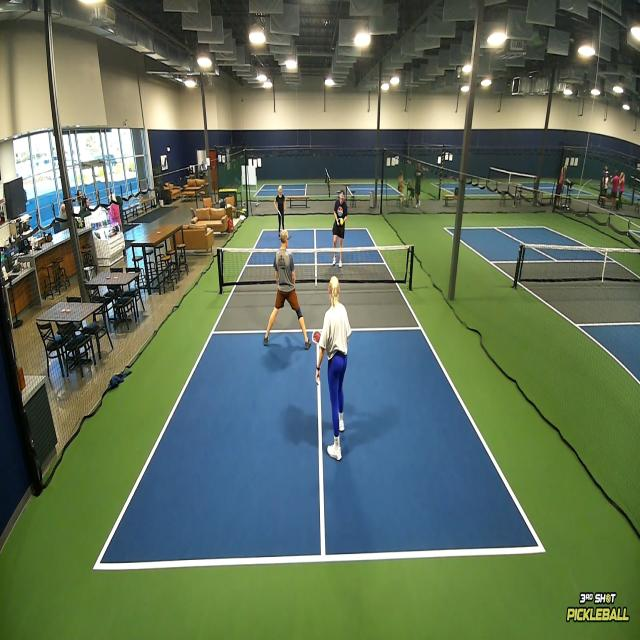Pickleball: (339, 218, 344, 225)
